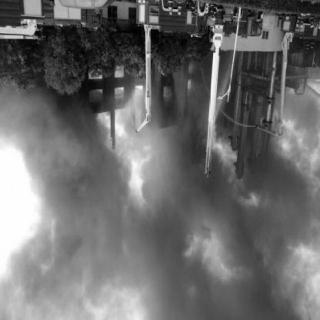Smoke: (4, 115, 120, 318)
